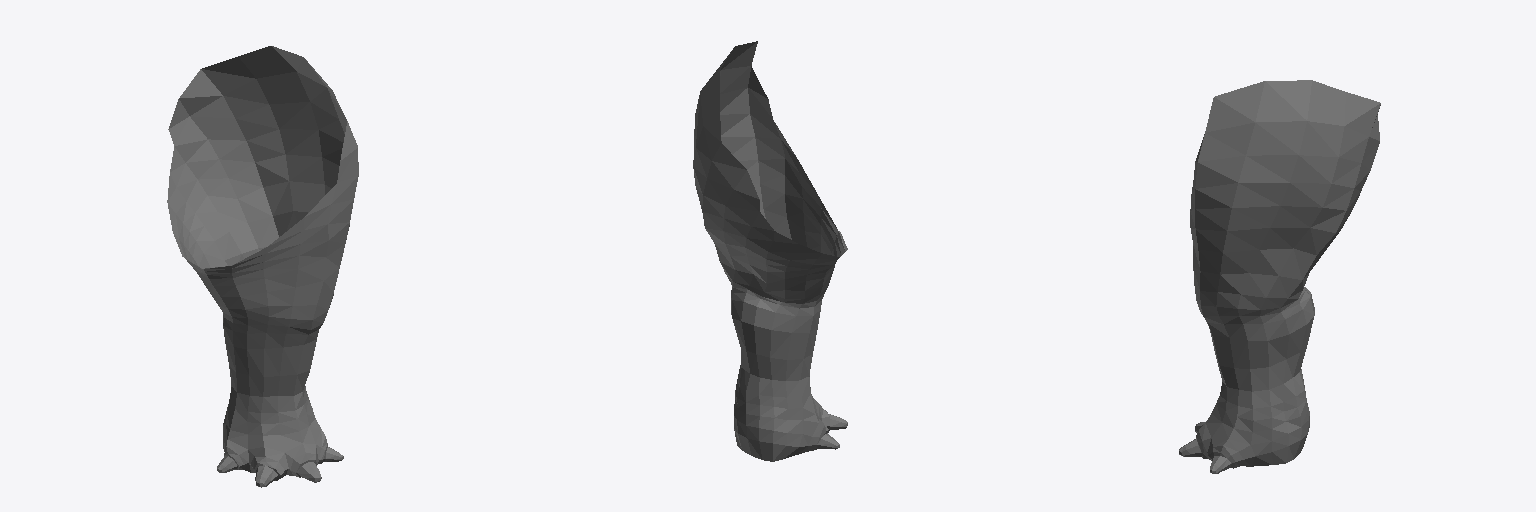
File: PataTrasIzq.obj
3 views of the same model, side by side, from view 1: azimuth 30°, elevation 25°; view 2: azimuth 150°, elevation 25°; view 3: azimuth 270°, elevation 25° (orthographic).
Visible parts, largest first — view 1: PataTrasIzq; view 2: PataTrasIzq; view 3: PataTrasIzq.
Boxes of the visible parts, x1,y1,x2,y2 form: PataTrasIzq: [167, 46, 358, 487]; PataTrasIzq: [693, 41, 847, 461]; PataTrasIzq: [1179, 80, 1380, 473].
Bounding box in the file's own units: 15.46 × 39.4 × 18.6.